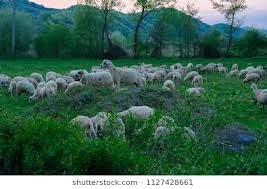sheep: (154, 115, 195, 147), (102, 58, 137, 87), (116, 104, 156, 129), (77, 69, 114, 90), (70, 114, 96, 143), (32, 80, 56, 105), (93, 112, 110, 136), (250, 82, 267, 104), (63, 80, 83, 97), (15, 80, 36, 96), (162, 79, 177, 94), (182, 70, 199, 83), (241, 73, 259, 85), (191, 75, 204, 89), (31, 70, 45, 82), (224, 69, 238, 79)
